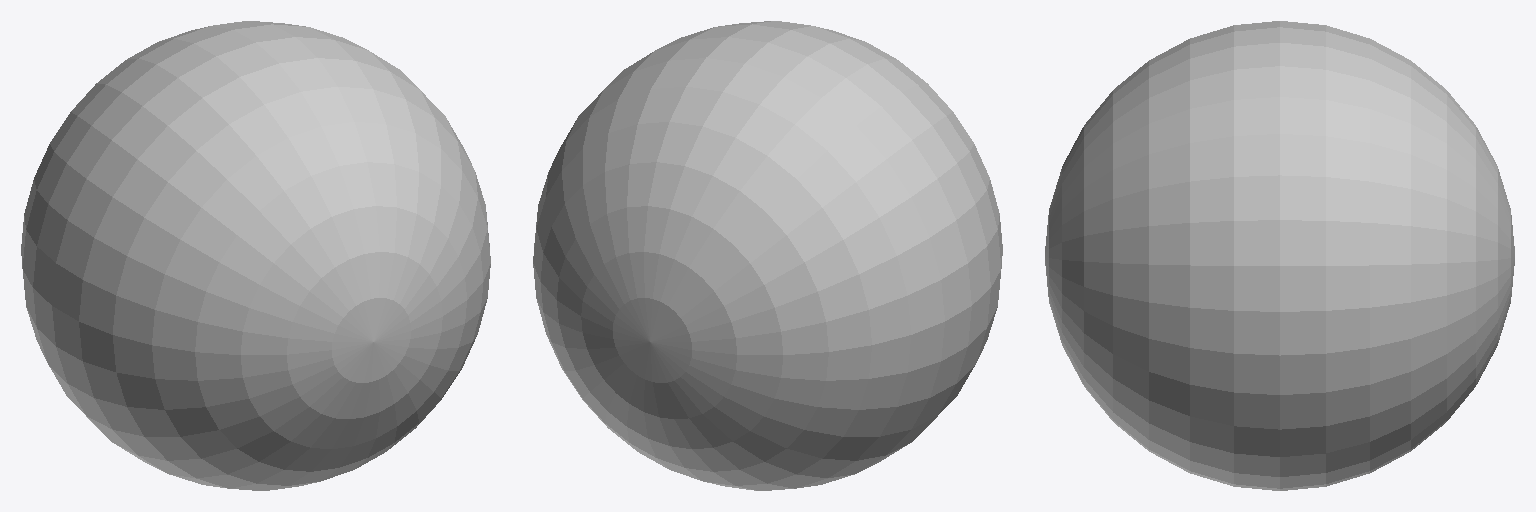
File: sun.obj
The picture shows the model from 3 angles: view 1: azimuth 30°, elevation 25°; view 2: azimuth 150°, elevation 25°; view 3: azimuth 270°, elevation 25°; orthographic projection.
Visible parts, largest first — view 1: Sphere; view 2: Sphere; view 3: Sphere.
Boxes of the visible parts, <box> form: Sphere: <box>21,21,490,490</box>; Sphere: <box>533,21,1002,490</box>; Sphere: <box>1045,21,1514,490</box>.
Bounding box in the file's own units: 2 × 2 × 2.